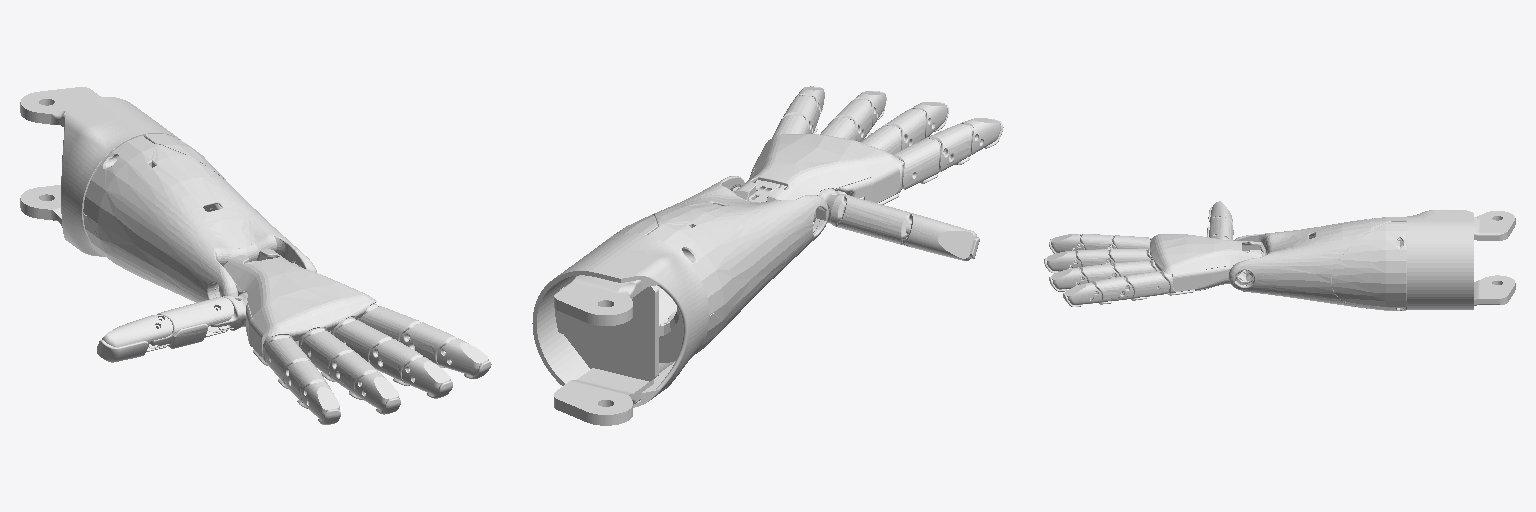
robot.urdf — pib_hand_left_v5:
<?xml version="1.0" ?>
<!-- Generated using onshape-to-robot -->
<!-- Onshape https://cad.onshape.com/documents/de4501504bdc7c1ee8f454db/w/362ced42eda2d0d1b7062a8c/e/18cf9e9b4d3b6abf4a5cfcd8 -->
<robot name="pib_hand_left_v5">
  <!-- Link urdf_elbow_lower -->
  <link name="urdf_elbow_lower">
    <inertial>
      <origin xyz="-0.00143933 -0.0182962 3.43653e-07" rpy="0 0 0"/>
      <mass value="0.149603"/>
      <inertia ixx="0.000244685" ixy="9.86492e-06" ixz="4.085e-09" iyy="0.000233779" iyz="-2.056e-09" izz="0.00016871"/>
    </inertial>
    <!-- Part urdf_elbow_lower -->
    <visual>
      <origin xyz="8.95795e-07 0.239338 -0.0650001" rpy="-1.5708 -1.5708 0"/>
      <geometry>
        <mesh filename="package://assets/urdf_elbow_lower.stl"/>
      </geometry>
      <material name="urdf_elbow_lower_material">
        <color rgba="0.901961 0.901961 0.901961 1"/>
      </material>
    </visual>
    <collision>
      <origin xyz="8.95795e-07 0.239338 -0.0650001" rpy="-1.5708 -1.5708 0"/>
      <geometry>
        <mesh filename="package://assets/urdf_elbow_lower.stl"/>
      </geometry>
    </collision>
  </link>
  <!-- Link urdf_forearm_left -->
  <link name="urdf_forearm_left">
    <inertial>
      <origin xyz="0.00111195 -0.000423248 0.0470523" rpy="0 0 0"/>
      <mass value="0.229101"/>
      <inertia ixx="0.000686071" ixy="8.58034e-07" ixz="3.61713e-06" iyy="0.0007126" iyz="3.90889e-06" izz="0.00028461"/>
    </inertial>
    <!-- Part urdf_forearm_left -->
    <visual>
      <origin xyz="0 0 0" rpy="-1.5708 -0 0"/>
      <geometry>
        <mesh filename="package://assets/urdf_forearm_left.stl"/>
      </geometry>
      <material name="urdf_forearm_left_material">
        <color rgba="0.901961 0.901961 0.901961 1"/>
      </material>
    </visual>
    <collision>
      <origin xyz="0 0 0" rpy="-1.5708 -0 0"/>
      <geometry>
        <mesh filename="package://assets/urdf_forearm_left.stl"/>
      </geometry>
    </collision>
  </link>
  <!-- Link urdf_palm_left -->
  <link name="urdf_palm_left">
    <inertial>
      <origin xyz="0.000667588 0.044286 0.000370315" rpy="0 0 0"/>
      <mass value="0.203832"/>
      <inertia ixx="0.000293593" ixy="-2.97123e-07" ixz="6.59953e-07" iyy="9.99101e-05" iyz="-1.45435e-05" izz="0.00022019"/>
    </inertial>
    <!-- Part urdf_palm_left -->
    <visual>
      <origin xyz="0.0018 0.1 0.0124013" rpy="-1.5708 1.5708 0"/>
      <geometry>
        <mesh filename="package://assets/urdf_palm_left.stl"/>
      </geometry>
      <material name="urdf_palm_left_material">
        <color rgba="0.917647 0.917647 0.917647 1"/>
      </material>
    </visual>
    <collision>
      <origin xyz="0.0018 0.1 0.0124013" rpy="-1.5708 1.5708 0"/>
      <geometry>
        <mesh filename="package://assets/urdf_palm_left.stl"/>
      </geometry>
    </collision>
  </link>
  <!-- Link urdf_finger_proximal -->
  <link name="urdf_finger_proximal">
    <inertial>
      <origin xyz="0.000519077 0.0160755 1.67544e-05" rpy="0 0 0"/>
      <mass value="0.0136189"/>
      <inertia ixx="2.55777e-06" ixy="8.9497e-08" ixz="2.334e-09" iyy="9.59667e-07" iyz="-9.661e-09" izz="2.59211e-06"/>
    </inertial>
    <!-- Part urdf_finger_proximal -->
    <visual>
      <origin xyz="0 0 -0" rpy="-1.5708 1.5708 0"/>
      <geometry>
        <mesh filename="package://assets/urdf_finger_proximal.stl"/>
      </geometry>
      <material name="urdf_finger_proximal_material">
        <color rgba="0.917647 0.917647 0.917647 1"/>
      </material>
    </visual>
    <collision>
      <origin xyz="0 0 -0" rpy="-1.5708 1.5708 0"/>
      <geometry>
        <mesh filename="package://assets/urdf_finger_proximal.stl"/>
      </geometry>
    </collision>
  </link>
  <!-- Link urdf_finger_distal -->
  <link name="urdf_finger_distal">
    <inertial>
      <origin xyz="0.000837797 0.0147599 2.23004e-05" rpy="0 0 0"/>
      <mass value="0.0105932"/>
      <inertia ixx="1.84566e-06" ixy="9.5641e-08" ixz="1.338e-09" iyy="6.74585e-07" iyz="-1.6e-11" izz="1.88457e-06"/>
    </inertial>
    <!-- Part urdf_finger_distal -->
    <visual>
      <origin xyz="0.0009 -0.036 0" rpy="-1.5708 1.5708 0"/>
      <geometry>
        <mesh filename="package://assets/urdf_finger_distal.stl"/>
      </geometry>
      <material name="urdf_finger_distal_material">
        <color rgba="0.917647 0.917647 0.917647 1"/>
      </material>
    </visual>
    <collision>
      <origin xyz="0.0009 -0.036 0" rpy="-1.5708 1.5708 0"/>
      <geometry>
        <mesh filename="package://assets/urdf_finger_distal.stl"/>
      </geometry>
    </collision>
  </link>
  <!-- Link urdf_finger_tip -->
  <link name="urdf_finger_tip">
    <inertial>
      <origin xyz="0.000347345 0.0101473 2.26491e-05" rpy="0 0 0"/>
      <mass value="0.00509636"/>
      <inertia ixx="5.08038e-07" ixy="3.4148e-08" ixz="1.458e-09" iyy="2.31863e-07" iyz="-3.207e-09" izz="4.97718e-07"/>
    </inertial>
    <!-- Part urdf_finger_tip -->
    <visual>
      <origin xyz="0.0018 -0.067 -0" rpy="-1.5708 1.5708 0"/>
      <geometry>
        <mesh filename="package://assets/urdf_finger_tip.stl"/>
      </geometry>
      <material name="urdf_finger_tip_material">
        <color rgba="0.917647 0.917647 0.917647 1"/>
      </material>
    </visual>
    <collision>
      <origin xyz="0.0018 -0.067 -0" rpy="-1.5708 1.5708 0"/>
      <geometry>
        <mesh filename="package://assets/urdf_finger_tip.stl"/>
      </geometry>
    </collision>
  </link>
  <!-- Joint from urdf_finger_distal to urdf_finger_tip -->
  <joint name="index_left_tip" type="revolute">
    <origin xyz="-0.0009 0.031 0" rpy="0 -0 -0"/>
    <parent link="urdf_finger_distal"/>
    <child link="urdf_finger_tip"/>
    <axis xyz="0 0 1"/>
    <limit effort="10" velocity="10" lower="0" upper="1.5708"/>
  </joint>
  <!-- Joint from urdf_finger_proximal to urdf_finger_distal -->
  <joint name="index_left_distal" type="revolute">
    <origin xyz="-0.0009 0.036 -0" rpy="-0 0 0"/>
    <parent link="urdf_finger_proximal"/>
    <child link="urdf_finger_distal"/>
    <axis xyz="0 0 1"/>
    <limit effort="10" velocity="10" lower="0" upper="1.5708"/>
  </joint>
  <!-- Joint from urdf_palm_left to urdf_finger_proximal -->
  <joint name="index_left_proximal" type="revolute">
    <origin xyz="0.00323365 0.0961869 0.0389556" rpy="2.96706 -0 -3.14159"/>
    <parent link="urdf_palm_left"/>
    <child link="urdf_finger_proximal"/>
    <axis xyz="0 0 1"/>
    <limit effort="10" velocity="10" lower="0" upper="1.5708"/>
  </joint>
  <!-- Link urdf_thumb_rotator_left -->
  <link name="urdf_thumb_rotator_left">
    <inertial>
      <origin xyz="-0.00970221 0.00034781 -0.00213644" rpy="0 0 0"/>
      <mass value="0.0125202"/>
      <inertia ixx="7.27023e-07" ixy="5.8149e-08" ixz="4.067e-09" iyy="1.75239e-06" iyz="4.121e-08" izz="1.63188e-06"/>
    </inertial>
    <!-- Part urdf_thumb_rotator_left -->
    <visual>
      <origin xyz="0.0280811 0 0.0662275" rpy="-0 0.23061 -0"/>
      <geometry>
        <mesh filename="package://assets/urdf_thumb_rotator_left.stl"/>
      </geometry>
      <material name="urdf_thumb_rotator_left_material">
        <color rgba="0.901961 0.901961 0.901961 1"/>
      </material>
    </visual>
    <collision>
      <origin xyz="0.0280811 0 0.0662275" rpy="-0 0.23061 -0"/>
      <geometry>
        <mesh filename="package://assets/urdf_thumb_rotator_left.stl"/>
      </geometry>
    </collision>
  </link>
  <!-- Link urdf_thumb_proximal -->
  <link name="urdf_thumb_proximal">
    <inertial>
      <origin xyz="0.020504 -0.000256687 1.8639e-05" rpy="0 0 0"/>
      <mass value="0.0188728"/>
      <inertia ixx="1.36772e-06" ixy="-1.87557e-07" ixz="-1.076e-08" iyy="4.52129e-06" iyz="-2.506e-09" izz="4.53199e-06"/>
    </inertial>
    <!-- Part urdf_thumb_proximal -->
    <visual>
      <origin xyz="0 0 0" rpy="0 1.5708 0"/>
      <geometry>
        <mesh filename="package://assets/urdf_thumb_proximal.stl"/>
      </geometry>
      <material name="urdf_thumb_proximal_material">
        <color rgba="0.917647 0.917647 0.917647 1"/>
      </material>
    </visual>
    <collision>
      <origin xyz="0 0 0" rpy="0 1.5708 0"/>
      <geometry>
        <mesh filename="package://assets/urdf_thumb_proximal.stl"/>
      </geometry>
    </collision>
  </link>
  <!-- Link urdf_thumb_tip -->
  <link name="urdf_thumb_tip">
    <inertial>
      <origin xyz="0.000984455 0.0172636 1.74502e-05" rpy="0 0 0"/>
      <mass value="0.0145886"/>
      <inertia ixx="2.49622e-06" ixy="1.58215e-07" ixz="3.262e-09" iyy="8.7434e-07" iyz="-8.997e-09" izz="2.40768e-06"/>
    </inertial>
    <!-- Part urdf_thumb_tip -->
    <visual>
      <origin xyz="0.0018 -0.045 -0" rpy="-1.5708 1.5708 0"/>
      <geometry>
        <mesh filename="package://assets/urdf_thumb_tip.stl"/>
      </geometry>
      <material name="urdf_thumb_tip_material">
        <color rgba="0.917647 0.917647 0.917647 1"/>
      </material>
    </visual>
    <collision>
      <origin xyz="0.0018 -0.045 -0" rpy="-1.5708 1.5708 0"/>
      <geometry>
        <mesh filename="package://assets/urdf_thumb_tip.stl"/>
      </geometry>
    </collision>
  </link>
  <!-- Joint from urdf_thumb_proximal to urdf_thumb_tip -->
  <joint name="thumb_left_tip" type="revolute">
    <origin xyz="0.045 0.0018 0" rpy="0 0 -1.5708"/>
    <parent link="urdf_thumb_proximal"/>
    <child link="urdf_thumb_tip"/>
    <axis xyz="0 0 1"/>
    <limit effort="10" velocity="10" lower="0" upper="1.5708"/>
  </joint>
  <!-- Joint from urdf_thumb_rotator_left to urdf_thumb_proximal -->
  <joint name="thumb_left_proximal" type="revolute">
    <origin xyz="-0.0257187 0 7.51193e-05" rpy="1.04237 -0.216545 -3.11673"/>
    <parent link="urdf_thumb_rotator_left"/>
    <child link="urdf_thumb_proximal"/>
    <axis xyz="0 0 1"/>
    <limit effort="10" velocity="10" lower="0" upper="1.5708"/>
  </joint>
  <!-- Joint from urdf_palm_left to urdf_thumb_rotator_left -->
  <joint name="thumb_left_rotator" type="revolute">
    <origin xyz="0.0018 0.0291072 0.0246013" rpy="0 1.34019 1.5708"/>
    <parent link="urdf_palm_left"/>
    <child link="urdf_thumb_rotator_left"/>
    <axis xyz="0 0 1"/>
    <limit effort="10" velocity="10" lower="0" upper="1.5708"/>
  </joint>
  <!-- Link urdf_finger_proximal_2 -->
  <link name="urdf_finger_proximal_2">
    <inertial>
      <origin xyz="0.000519077 0.0160755 1.67544e-05" rpy="0 0 0"/>
      <mass value="0.0136189"/>
      <inertia ixx="2.55777e-06" ixy="8.9497e-08" ixz="2.334e-09" iyy="9.59667e-07" iyz="-9.661e-09" izz="2.59211e-06"/>
    </inertial>
    <!-- Part urdf_finger_proximal_2 -->
    <visual>
      <origin xyz="0 0 0" rpy="-1.5708 1.5708 0"/>
      <geometry>
        <mesh filename="package://assets/urdf_finger_proximal.stl"/>
      </geometry>
      <material name="urdf_finger_proximal_2_material">
        <color rgba="0.917647 0.917647 0.917647 1"/>
      </material>
    </visual>
    <collision>
      <origin xyz="0 0 0" rpy="-1.5708 1.5708 0"/>
      <geometry>
        <mesh filename="package://assets/urdf_finger_proximal.stl"/>
      </geometry>
    </collision>
  </link>
  <!-- Link urdf_finger_distal_2 -->
  <link name="urdf_finger_distal_2">
    <inertial>
      <origin xyz="0.000837797 0.0147599 2.23004e-05" rpy="0 0 0"/>
      <mass value="0.0105932"/>
      <inertia ixx="1.84566e-06" ixy="9.5641e-08" ixz="1.338e-09" iyy="6.74585e-07" iyz="-1.6e-11" izz="1.88457e-06"/>
    </inertial>
    <!-- Part urdf_finger_distal_2 -->
    <visual>
      <origin xyz="0.0009 -0.036 0" rpy="-1.5708 1.5708 0"/>
      <geometry>
        <mesh filename="package://assets/urdf_finger_distal.stl"/>
      </geometry>
      <material name="urdf_finger_distal_2_material">
        <color rgba="0.917647 0.917647 0.917647 1"/>
      </material>
    </visual>
    <collision>
      <origin xyz="0.0009 -0.036 0" rpy="-1.5708 1.5708 0"/>
      <geometry>
        <mesh filename="package://assets/urdf_finger_distal.stl"/>
      </geometry>
    </collision>
  </link>
  <!-- Link urdf_finger_tip_2 -->
  <link name="urdf_finger_tip_2">
    <inertial>
      <origin xyz="0.000347345 0.0101473 2.26491e-05" rpy="0 0 0"/>
      <mass value="0.00509636"/>
      <inertia ixx="5.08038e-07" ixy="3.4148e-08" ixz="1.458e-09" iyy="2.31863e-07" iyz="-3.207e-09" izz="4.97718e-07"/>
    </inertial>
    <!-- Part urdf_finger_tip_2 -->
    <visual>
      <origin xyz="0.0018 -0.067 0" rpy="-1.5708 1.5708 0"/>
      <geometry>
        <mesh filename="package://assets/urdf_finger_tip.stl"/>
      </geometry>
      <material name="urdf_finger_tip_2_material">
        <color rgba="0.917647 0.917647 0.917647 1"/>
      </material>
    </visual>
    <collision>
      <origin xyz="0.0018 -0.067 0" rpy="-1.5708 1.5708 0"/>
      <geometry>
        <mesh filename="package://assets/urdf_finger_tip.stl"/>
      </geometry>
    </collision>
  </link>
  <!-- Joint from urdf_finger_distal_2 to urdf_finger_tip_2 -->
  <joint name="middle_left_tip" type="revolute">
    <origin xyz="-0.0009 0.031 0" rpy="-0 0 0"/>
    <parent link="urdf_finger_distal_2"/>
    <child link="urdf_finger_tip_2"/>
    <axis xyz="0 0 1"/>
    <limit effort="10" velocity="10" lower="0" upper="1.5708"/>
  </joint>
  <!-- Joint from urdf_finger_proximal_2 to urdf_finger_distal_2 -->
  <joint name="middle_left_distal" type="revolute">
    <origin xyz="-0.0009 0.036 0" rpy="0 -0 0"/>
    <parent link="urdf_finger_proximal_2"/>
    <child link="urdf_finger_distal_2"/>
    <axis xyz="0 0 1"/>
    <limit effort="10" velocity="10" lower="0" upper="1.5708"/>
  </joint>
  <!-- Joint from urdf_palm_left to urdf_finger_proximal_2 -->
  <joint name="middle_left_proximal" type="revolute">
    <origin xyz="0.00320589 0.0998 0.0124014" rpy="3.14159 -0 3.14159"/>
    <parent link="urdf_palm_left"/>
    <child link="urdf_finger_proximal_2"/>
    <axis xyz="0 0 1"/>
    <limit effort="10" velocity="10" lower="0" upper="1.5708"/>
  </joint>
  <!-- Link urdf_finger_proximal_3 -->
  <link name="urdf_finger_proximal_3">
    <inertial>
      <origin xyz="0.000519077 0.0160755 1.67544e-05" rpy="0 0 0"/>
      <mass value="0.0136189"/>
      <inertia ixx="2.55777e-06" ixy="8.9497e-08" ixz="2.334e-09" iyy="9.59667e-07" iyz="-9.661e-09" izz="2.59211e-06"/>
    </inertial>
    <!-- Part urdf_finger_proximal_3 -->
    <visual>
      <origin xyz="-0 0 0" rpy="-1.5708 1.5708 0"/>
      <geometry>
        <mesh filename="package://assets/urdf_finger_proximal.stl"/>
      </geometry>
      <material name="urdf_finger_proximal_3_material">
        <color rgba="0.917647 0.917647 0.917647 1"/>
      </material>
    </visual>
    <collision>
      <origin xyz="-0 0 0" rpy="-1.5708 1.5708 0"/>
      <geometry>
        <mesh filename="package://assets/urdf_finger_proximal.stl"/>
      </geometry>
    </collision>
  </link>
  <!-- Link urdf_finger_distal_3 -->
  <link name="urdf_finger_distal_3">
    <inertial>
      <origin xyz="0.000837797 0.0147599 2.23004e-05" rpy="0 0 0"/>
      <mass value="0.0105932"/>
      <inertia ixx="1.84566e-06" ixy="9.5641e-08" ixz="1.338e-09" iyy="6.74585e-07" iyz="-1.6e-11" izz="1.88457e-06"/>
    </inertial>
    <!-- Part urdf_finger_distal_3 -->
    <visual>
      <origin xyz="0.0009 -0.036 0" rpy="-1.5708 1.5708 0"/>
      <geometry>
        <mesh filename="package://assets/urdf_finger_distal.stl"/>
      </geometry>
      <material name="urdf_finger_distal_3_material">
        <color rgba="0.917647 0.917647 0.917647 1"/>
      </material>
    </visual>
    <collision>
      <origin xyz="0.0009 -0.036 0" rpy="-1.5708 1.5708 0"/>
      <geometry>
        <mesh filename="package://assets/urdf_finger_distal.stl"/>
      </geometry>
    </collision>
  </link>
  <!-- Link urdf_finger_tip_3 -->
  <link name="urdf_finger_tip_3">
    <inertial>
      <origin xyz="0.000347345 0.0101473 2.26491e-05" rpy="0 0 0"/>
      <mass value="0.00509636"/>
      <inertia ixx="5.08038e-07" ixy="3.4148e-08" ixz="1.458e-09" iyy="2.31863e-07" iyz="-3.207e-09" izz="4.97718e-07"/>
    </inertial>
    <!-- Part urdf_finger_tip_3 -->
    <visual>
      <origin xyz="0.0018 -0.067 0" rpy="-1.5708 1.5708 0"/>
      <geometry>
        <mesh filename="package://assets/urdf_finger_tip.stl"/>
      </geometry>
      <material name="urdf_finger_tip_3_material">
        <color rgba="0.917647 0.917647 0.917647 1"/>
      </material>
    </visual>
    <collision>
      <origin xyz="0.0018 -0.067 0" rpy="-1.5708 1.5708 0"/>
      <geometry>
        <mesh filename="package://assets/urdf_finger_tip.stl"/>
      </geometry>
    </collision>
  </link>
  <!-- Joint from urdf_finger_distal_3 to urdf_finger_tip_3 -->
  <joint name="ring_left_tip" type="revolute">
    <origin xyz="-0.0009 0.031 0" rpy="0 -0 0"/>
    <parent link="urdf_finger_distal_3"/>
    <child link="urdf_finger_tip_3"/>
    <axis xyz="0 0 1"/>
    <limit effort="10" velocity="10" lower="0" upper="1.5708"/>
  </joint>
  <!-- Joint from urdf_finger_proximal_3 to urdf_finger_distal_3 -->
  <joint name="ring_left_distal" type="revolute">
    <origin xyz="-0.0009 0.036 0" rpy="0 0 0"/>
    <parent link="urdf_finger_proximal_3"/>
    <child link="urdf_finger_distal_3"/>
    <axis xyz="0 0 1"/>
    <limit effort="10" velocity="10" lower="0" upper="1.5708"/>
  </joint>
  <!-- Joint from urdf_palm_left to urdf_finger_proximal_3 -->
  <joint name="ring_left_proximal" type="revolute">
    <origin xyz="0.00333305 0.0961655 -0.0142745" rpy="-2.96706 0 3.14159"/>
    <parent link="urdf_palm_left"/>
    <child link="urdf_finger_proximal_3"/>
    <axis xyz="0 0 1"/>
    <limit effort="10" velocity="10" lower="0" upper="1.5708"/>
  </joint>
  <!-- Link urdf_finger_proximal_4 -->
  <link name="urdf_finger_proximal_4">
    <inertial>
      <origin xyz="0.000519077 0.0160755 1.67544e-05" rpy="0 0 0"/>
      <mass value="0.0136189"/>
      <inertia ixx="2.55777e-06" ixy="8.9497e-08" ixz="2.334e-09" iyy="9.59667e-07" iyz="-9.661e-09" izz="2.59211e-06"/>
    </inertial>
    <!-- Part urdf_finger_proximal_4 -->
    <visual>
      <origin xyz="0 0 0" rpy="-1.5708 1.5708 0"/>
      <geometry>
        <mesh filename="package://assets/urdf_finger_proximal.stl"/>
      </geometry>
      <material name="urdf_finger_proximal_4_material">
        <color rgba="0.917647 0.917647 0.917647 1"/>
      </material>
    </visual>
    <collision>
      <origin xyz="0 0 0" rpy="-1.5708 1.5708 0"/>
      <geometry>
        <mesh filename="package://assets/urdf_finger_proximal.stl"/>
      </geometry>
    </collision>
  </link>
  <!-- Link urdf_finger_distal_4 -->
  <link name="urdf_finger_distal_4">
    <inertial>
      <origin xyz="0.000837797 0.0147599 2.23004e-05" rpy="0 0 0"/>
      <mass value="0.0105932"/>
      <inertia ixx="1.84566e-06" ixy="9.5641e-08" ixz="1.338e-09" iyy="6.74585e-07" iyz="-1.6e-11" izz="1.88457e-06"/>
    </inertial>
    <!-- Part urdf_finger_distal_4 -->
    <visual>
      <origin xyz="0.0009 -0.036 0" rpy="-1.5708 1.5708 0"/>
      <geometry>
        <mesh filename="package://assets/urdf_finger_distal.stl"/>
      </geometry>
      <material name="urdf_finger_distal_4_material">
        <color rgba="0.917647 0.917647 0.917647 1"/>
      </material>
    </visual>
    <collision>
      <origin xyz="0.0009 -0.036 0" rpy="-1.5708 1.5708 0"/>
      <geometry>
        <mesh filename="package://assets/urdf_finger_distal.stl"/>
      </geometry>
    </collision>
  </link>
  <!-- Link urdf_finger_tip_4 -->
  <link name="urdf_finger_tip_4">
    <inertial>
      <origin xyz="0.000347345 0.0101473 2.26491e-05" rpy="0 0 0"/>
      <mass value="0.00509636"/>
      <inertia ixx="5.08038e-07" ixy="3.4148e-08" ixz="1.458e-09" iyy="2.31863e-07" iyz="-3.207e-09" izz="4.97718e-07"/>
    </inertial>
    <!-- Part urdf_finger_tip_4 -->
    <visual>
      <origin xyz="0.0018 -0.067 0" rpy="-1.5708 1.5708 0"/>
      <geometry>
        <mesh filename="package://assets/urdf_finger_tip.stl"/>
      </geometry>
      <material name="urdf_finger_tip_4_material">
        <color rgba="0.917647 0.917647 0.917647 1"/>
      </material>
    </visual>
    <collision>
      <origin xyz="0.0018 -0.067 0" rpy="-1.5708 1.5708 0"/>
      <geometry>
        <mesh filename="package://assets/urdf_finger_tip.stl"/>
      </geometry>
    </collision>
  </link>
  <!-- Joint from urdf_finger_distal_4 to urdf_finger_tip_4 -->
  <joint name="pinky_left_tip" type="revolute">
    <origin xyz="-0.0009 0.031 0" rpy="0 0 0"/>
    <parent link="urdf_finger_distal_4"/>
    <child link="urdf_finger_tip_4"/>
    <axis xyz="0 0 1"/>
    <limit effort="10" velocity="10" lower="0" upper="1.5708"/>
  </joint>
  <!-- Joint from urdf_finger_proximal_4 to urdf_finger_distal_4 -->
  <joint name="pinky_left_distal" type="revolute">
    <origin xyz="-0.0009 0.036 -0" rpy="0 0 0"/>
    <parent link="urdf_finger_proximal_4"/>
    <child link="urdf_finger_distal_4"/>
    <axis xyz="0 0 1"/>
    <limit effort="10" velocity="10" lower="0" upper="1.5708"/>
  </joint>
  <!-- Joint from urdf_palm_left to urdf_finger_proximal_4 -->
  <joint name="pinky_left_proximal" type="revolute">
    <origin xyz="0.00326544 0.0855612 -0.0388901" rpy="-2.82743 -0 3.14159"/>
    <parent link="urdf_palm_left"/>
    <child link="urdf_finger_proximal_4"/>
    <axis xyz="0 0 1"/>
    <limit effort="10" velocity="10" lower="0" upper="1.5708"/>
  </joint>
  <!-- Joint from urdf_forearm_left to urdf_palm_left -->
  <joint name="wrist_left" type="revolute">
    <origin xyz="0 -0 0.1544" rpy="1.5708 -0 -1.5708"/>
    <parent link="urdf_forearm_left"/>
    <child link="urdf_palm_left"/>
    <axis xyz="0 0 1"/>
    <limit effort="10" velocity="10" lower="-1.0472" upper="0"/>
  </joint>
  <!-- Joint from urdf_elbow_lower to urdf_forearm_left -->
  <joint name="forearm_left" type="revolute">
    <origin xyz="0.000469602 -0.0641 -0.000258187" rpy="1.5708 -0 0"/>
    <parent link="urdf_elbow_lower"/>
    <child link="urdf_forearm_left"/>
    <axis xyz="0 0 1"/>
    <limit effort="10" velocity="10" lower="-1.5708" upper="1.5708"/>
  </joint>
</robot>

--- What the picture shows (computed from the rendered views, not written in the file) ---
3 views of the same robot in one strip: view 1: azimuth 30°, elevation 25°; view 2: azimuth 150°, elevation 25°; view 3: azimuth 270°, elevation 25° (orthographic).
Model pib_hand_left_v5 with 18 links and 17 joints (17 revolute), rooted at urdf_elbow_lower, posed all joints at 0.
Visible links, largest first — view 1: urdf_forearm_left, urdf_elbow_lower, urdf_palm_left, urdf_thumb_proximal, urdf_thumb_tip, urdf_finger_tip_4, urdf_finger_tip_3, urdf_finger_distal_3, urdf_finger_tip_2, urdf_finger_proximal_2, urdf_finger_distal_4, urdf_finger_proximal_3 (+6 smaller); view 2: urdf_elbow_lower, urdf_forearm_left, urdf_palm_left, urdf_thumb_proximal, urdf_thumb_tip, urdf_finger_proximal, urdf_finger_distal, urdf_finger_distal_2, urdf_finger_tip, urdf_finger_distal_3, urdf_finger_proximal_2, urdf_finger_distal_4 (+4 smaller); view 3: urdf_forearm_left, urdf_elbow_lower, urdf_palm_left, urdf_finger_proximal_4, urdf_finger_distal_4, urdf_finger_tip_4, urdf_finger_tip_3, urdf_finger_tip_2.
Link boxes in pixels (box(x1,y1,x2,y2)): urdf_forearm_left: box(83, 134, 316, 302); urdf_elbow_lower: box(20, 87, 180, 256); urdf_palm_left: box(219, 249, 378, 365); urdf_thumb_proximal: box(149, 297, 233, 348); urdf_thumb_tip: box(97, 315, 172, 362); urdf_finger_tip_4: box(437, 338, 491, 378); urdf_finger_tip_3: box(402, 357, 452, 398); urdf_finger_distal_3: box(369, 339, 422, 385); urdf_finger_tip_2: box(355, 372, 400, 414); urdf_finger_proximal_2: box(301, 331, 354, 381); urdf_finger_distal_4: box(399, 322, 456, 367); urdf_finger_proximal_3: box(334, 320, 392, 362); urdf_elbow_lower: box(532, 233, 708, 425); urdf_forearm_left: box(603, 176, 828, 362); urdf_palm_left: box(732, 134, 903, 221); urdf_thumb_proximal: box(837, 195, 911, 244); urdf_thumb_tip: box(902, 213, 979, 260); urdf_finger_proximal: box(893, 138, 940, 189); urdf_finger_distal: box(927, 124, 973, 171); urdf_finger_distal_2: box(883, 109, 925, 149); urdf_finger_tip: box(960, 118, 1003, 154); urdf_finger_distal_3: box(834, 99, 871, 141); urdf_finger_proximal_2: box(861, 125, 901, 154); urdf_finger_distal_4: box(781, 95, 817, 133); urdf_forearm_left: box(1229, 217, 1406, 310); urdf_elbow_lower: box(1407, 210, 1515, 309); urdf_palm_left: box(1146, 234, 1266, 295); urdf_finger_proximal_4: box(1121, 271, 1169, 300); urdf_finger_distal_4: box(1090, 276, 1133, 304); urdf_finger_tip_4: box(1063, 282, 1101, 306); urdf_finger_tip_3: box(1049, 267, 1087, 291); urdf_finger_tip_2: box(1044, 251, 1081, 273).
Size in the robot's own frame: 0.2072 by 0.4503 by 0.0903 metres.
Meshes: 9 distinct files referenced, 18 mesh visuals loaded (9 binary STL).
